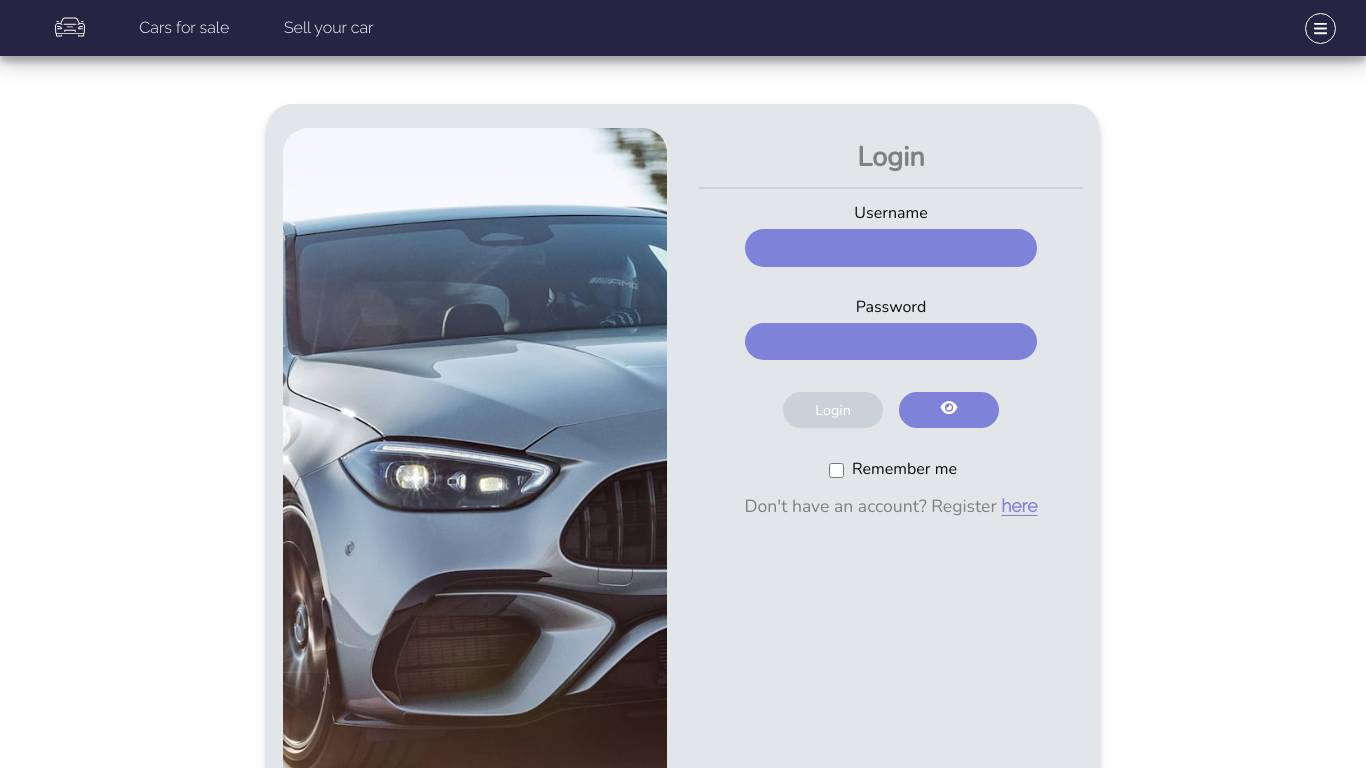
Testing Login › testing unsuccessful login
This screenshot has width=1366, height=768.
In the field named "username": (891, 248) 745,229 -> 1036,266, type "mockuser"
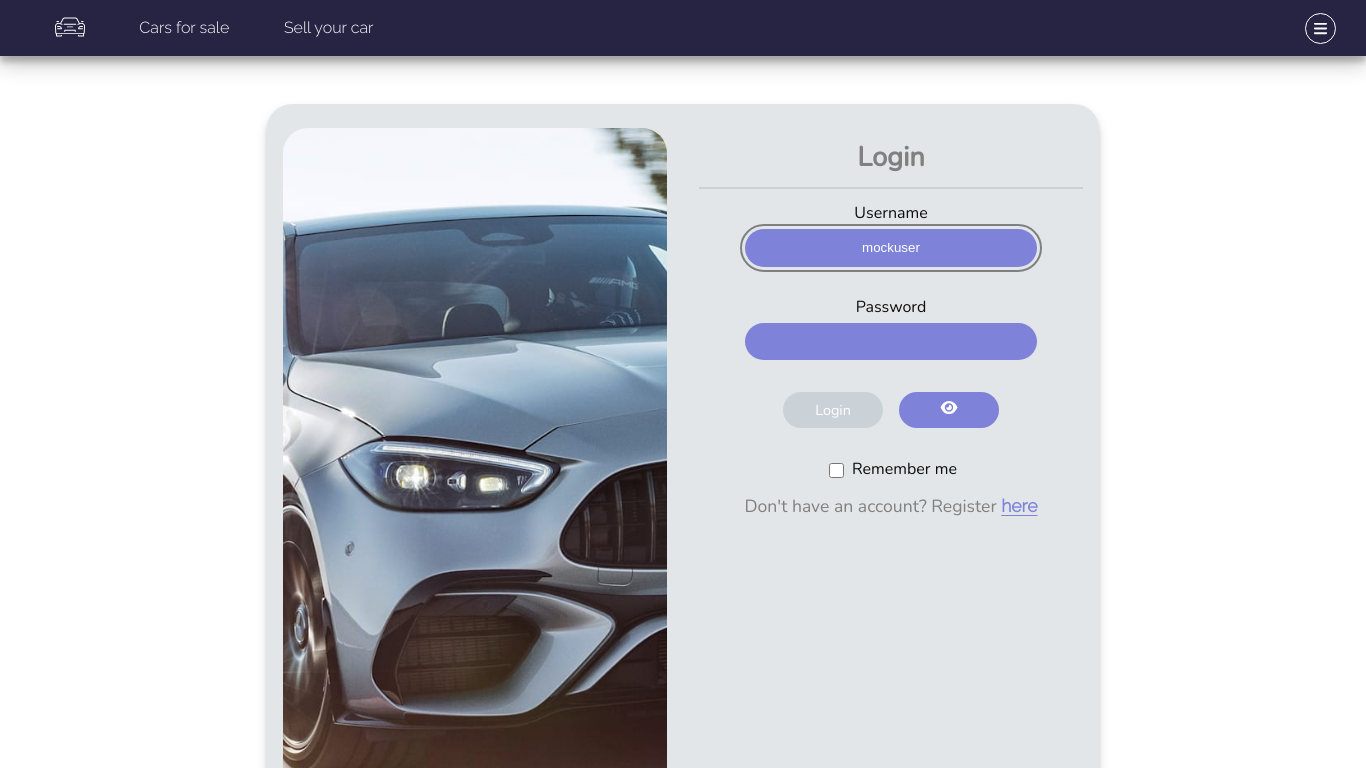
In the password field named "password": (891, 342) 745,323 -> 1036,360, type "mockpass"
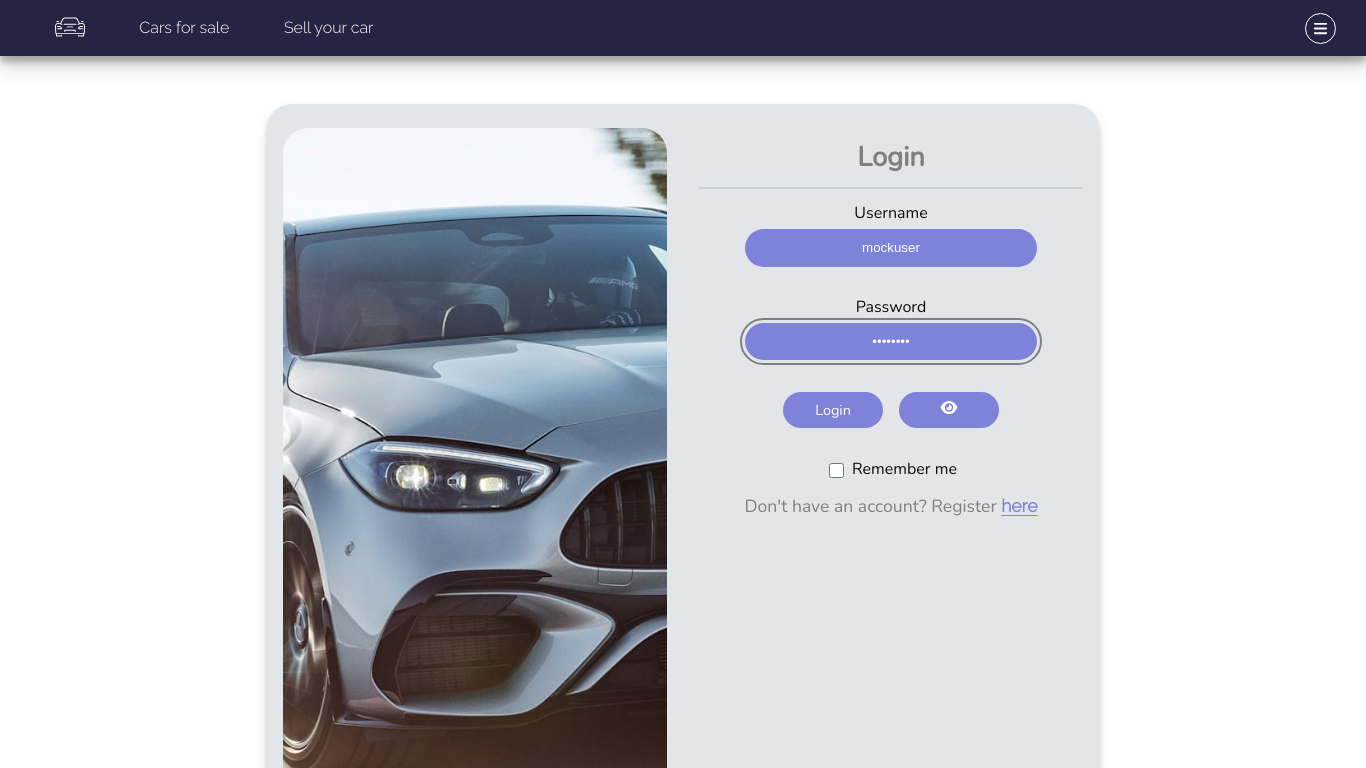
Click the button with test id "submit": (833, 410) 783,392 -> 883,428
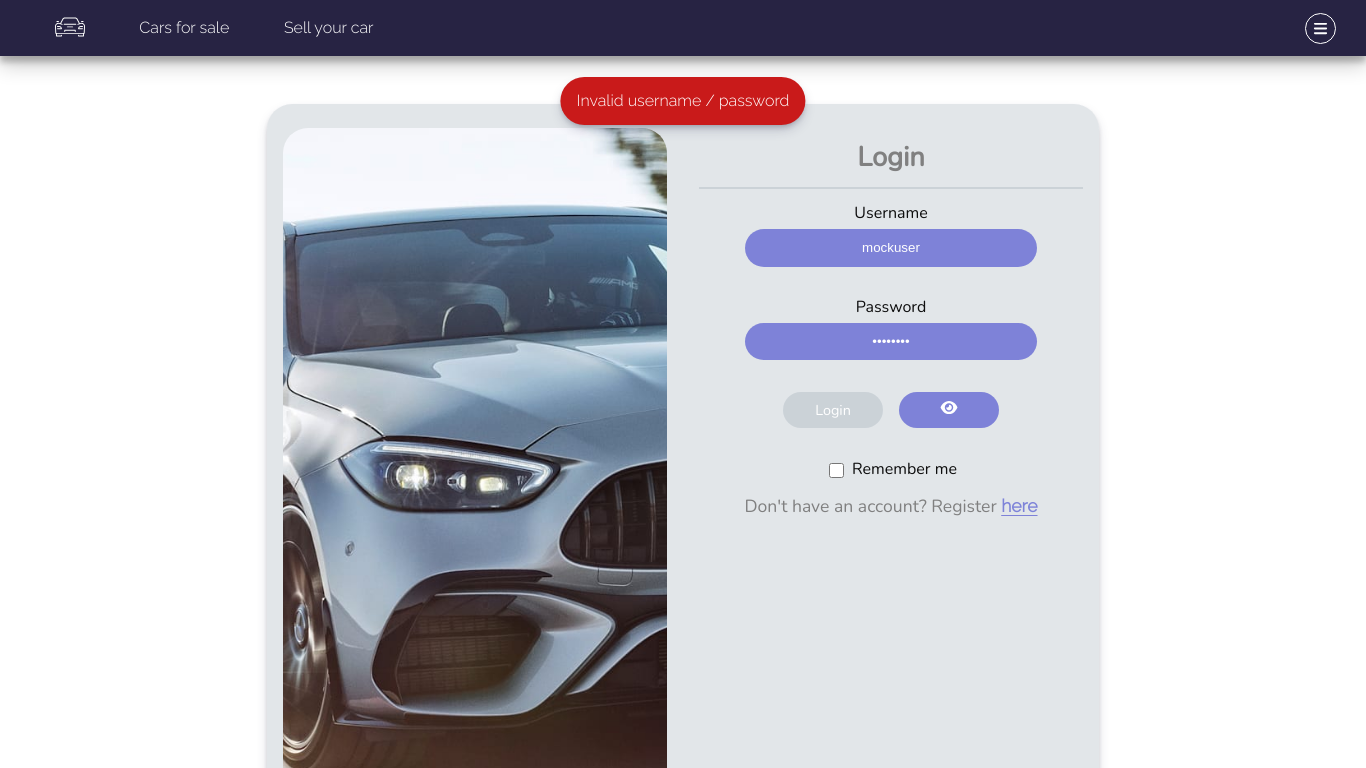
Check: the text "Invalid username / password" is shown, box 561,77 -> 805,125
